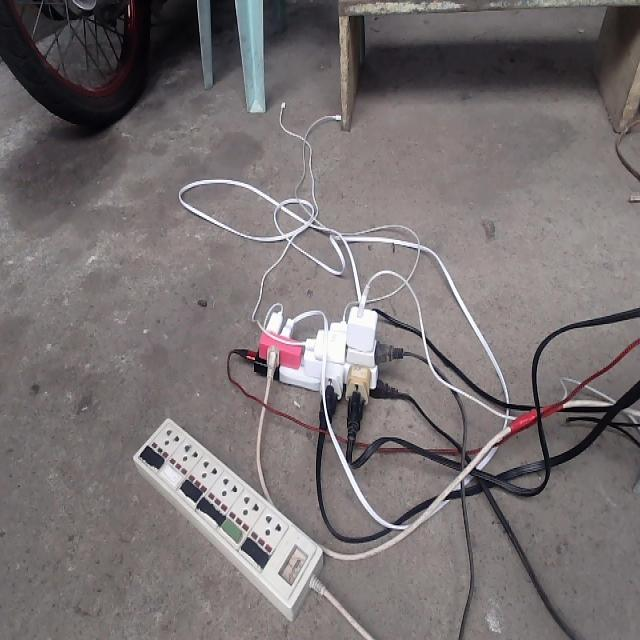-: (247, 300, 393, 409)
